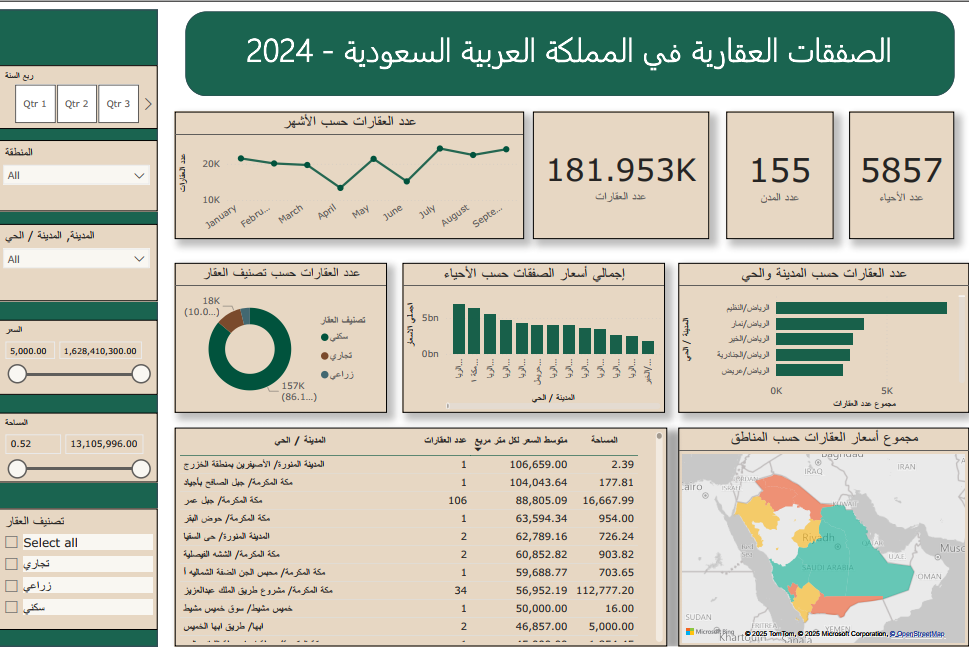

What the dashboard file says about the page in this screenshot:
{"tool":"powerbi","page":{"name":"الصفقات العقارية 2024","canvas":[1300,850],"ordinal":0},"visuals":[{"type":"shape","box":[0,0,216.7,850],"z":0},{"type":"shape","box":[253.3,1.7,1026.7,113.3],"z":1000},{"type":"card","fields":{"Values":["Count(ALL-Transactions sale for real estate-2024.المدينة)"]},"box":[976.7,136.7,143.3,170],"z":2000},{"type":"lineChart","title":"عدد العقارات حسب الأشهر ","fields":{"Category":["ALL-Transactions sale for real estate-2024.تاريخ الصفقة ميلادي.Variation.Date Hierarchy.Month"],"Y":["Sum(ALL-Transactions sale for real estate-2024.عدد العقارات)"]},"box":[240,136,466,170],"z":3000},{"type":"card","fields":{"Values":["Count(ALL-Transactions sale for real estate-2024.المدينة / الحي)"]},"box":[1140,136.7,140,170],"z":4000},{"type":"card","fields":{"Values":["Measures&Claculations.مجموع عدد العقارات"]},"box":[718.3,136.7,235,170],"z":5000},{"type":"filledMap","title":"مجموع أسعار العقارات حسب المناطق","fields":{"Category":["ALL-Transactions sale for real estate-2024.المنطقة"]},"box":[911.7,558.3,388.3,291.7],"z":6000},{"type":"columnChart","title":"إجمالي أسعار الصفقات حسب الأحياء","fields":{"Category":["ALL-Transactions sale for real estate-2024.المدينة / الحي"],"Y":["Measures&Claculations.اجمالي المبيعات"]},"box":[543.3,338.3,350,200],"z":7000},{"type":"slicer","fields":{"Values":["ALL-Transactions sale for real estate-2024.المنطقة"]},"box":[0,173.3,216.7,95],"z":8000},{"type":"slicer","fields":{"Values":["ALL-Transactions sale for real estate-2024.المدينة","ALL-Transactions sale for real estate-2024.المدينة / الحي"]},"box":[0,286.7,216.7,103.3],"z":9000},{"type":"slicer","fields":{"Values":["ALL-Transactions sale for real estate-2024.تصنيف العقار"]},"box":[0,666.7,216.7,161.7],"z":10000},{"type":"slicer","fields":{"Values":["ALL-Transactions sale for real estate-2024.تاريخ الصفقة ميلادي.Variation.Date Hierarchy.Quarter"]},"box":[0,73.3,216.7,85],"z":11000},{"type":"clusteredBarChart","title":"عدد العقارات حسب المدينة والحي","fields":{"Category":["ALL-Transactions sale for real estate-2024.المدينة / الحي"],"Y":["Sum(ALL-Transactions sale for real estate-2024.عدد العقارات)"]},"box":[911.7,338.3,388.3,200],"z":12000},{"type":"donutChart","title":"عدد العقارات حسب تصنيف العقار","fields":{"Y":["Measures&Claculations.مجموع عدد العقارات"],"Category":["ALL-Transactions sale for real estate-2024.تصنيف العقار"]},"box":[240,338.3,283.3,200],"z":13000},{"type":"textbox","box":[286.7,18.3,960,80],"z":14000},{"type":"tableEx","fields":{"Values":["ALL-Transactions sale for real estate-2024.المدينة / الحي","Sum(ALL-Transactions sale for real estate-2024.عدد العقارات)","Measures&Claculations.متوسط السعر لكل متر مربع","Sum(ALL-Transactions sale for real estate-2024.المساحة)"]},"box":[240,558.3,656.7,291.7],"z":15000},{"type":"slicer","fields":{"Values":["ALL-Transactions sale for real estate-2024.السعر"]},"box":[0,413.3,216.7,100],"z":16000},{"type":"slicer","fields":{"Values":["ALL-Transactions sale for real estate-2024.المساحة"]},"box":[0,538.3,216.7,93.3],"z":17000}]}

Visuals, with their boxes on the page's 1300x850 design canvas (x1, y1, x2, y2). These are canvas units, not pixel positions in the 969x649 screenshot, which may show the page scaled, cropped or inside an application window:
shape: crop(0, 0, 217, 850)
shape: crop(253, 2, 1280, 115)
card - Count(ALL-Transactions sale for real estate-2024.المدينة): crop(977, 137, 1120, 307)
"عدد العقارات حسب الأشهر " lineChart: crop(240, 136, 706, 306)
card - Count(ALL-Transactions sale for real estate-2024.المدينة / الحي): crop(1140, 137, 1280, 307)
card - Measures&Claculations.مجموع عدد العقارات: crop(718, 137, 953, 307)
"مجموع أسعار العقارات حسب المناطق" filledMap: crop(912, 558, 1300, 850)
"إجمالي أسعار الصفقات حسب الأحياء" columnChart: crop(543, 338, 893, 538)
slicer - ALL-Transactions sale for real estate-2024.المنطقة: crop(0, 173, 217, 268)
slicer - ALL-Transactions sale for real estate-2024.المدينة x ALL-Transactions sale for real estate-2024.المدينة / الحي: crop(0, 287, 217, 390)
slicer - ALL-Transactions sale for real estate-2024.تصنيف العقار: crop(0, 667, 217, 828)
slicer - ALL-Transactions sale for real estate-2024.تاريخ الصفقة ميلادي.Variation.Date Hierarchy.Quarter: crop(0, 73, 217, 158)
"عدد العقارات حسب المدينة والحي" clusteredBarChart: crop(912, 338, 1300, 538)
"عدد العقارات حسب تصنيف العقار" donutChart: crop(240, 338, 523, 538)
textbox: crop(287, 18, 1247, 98)
tableEx - ALL-Transactions sale for real estate-2024.المدينة / الحي x Sum(ALL-Transactions sale for real estate-2024.عدد العقارات): crop(240, 558, 897, 850)
slicer - ALL-Transactions sale for real estate-2024.السعر: crop(0, 413, 217, 513)
slicer - ALL-Transactions sale for real estate-2024.المساحة: crop(0, 538, 217, 632)
